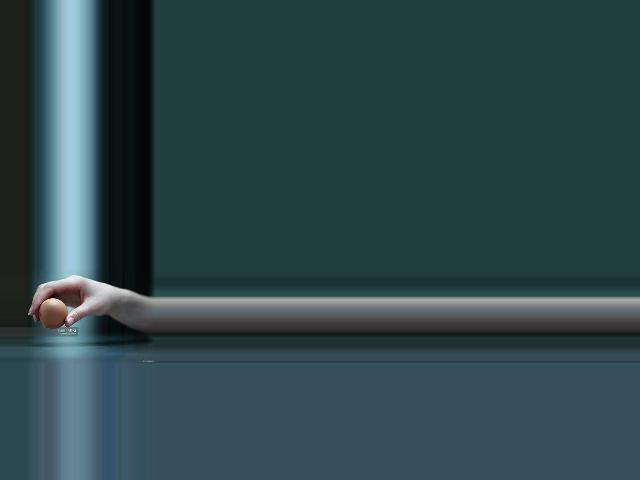egg: (38, 298, 68, 329)
